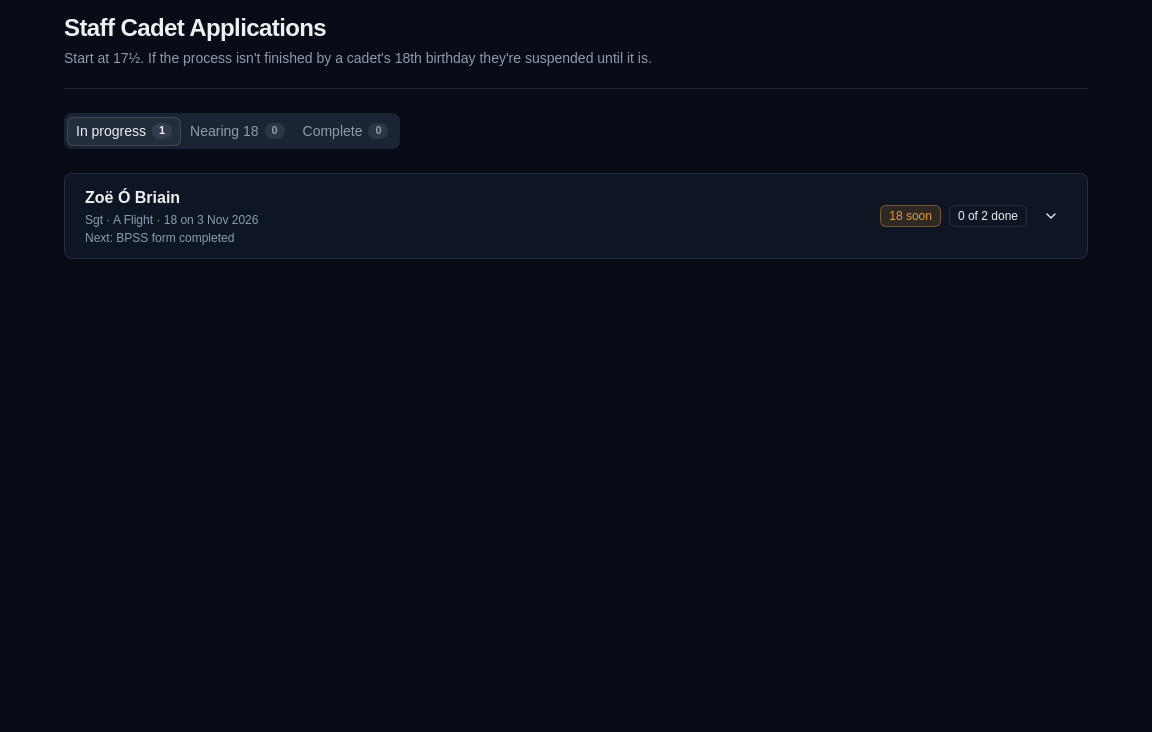
Test: Staff cadet applications › saves notes, offering Save only once they've changed
This screenshot has width=1152, height=732.
Click the button named "Expand application for Zoë Ó Briain".
click(1051, 216)  # box [1035,200,1067,232]
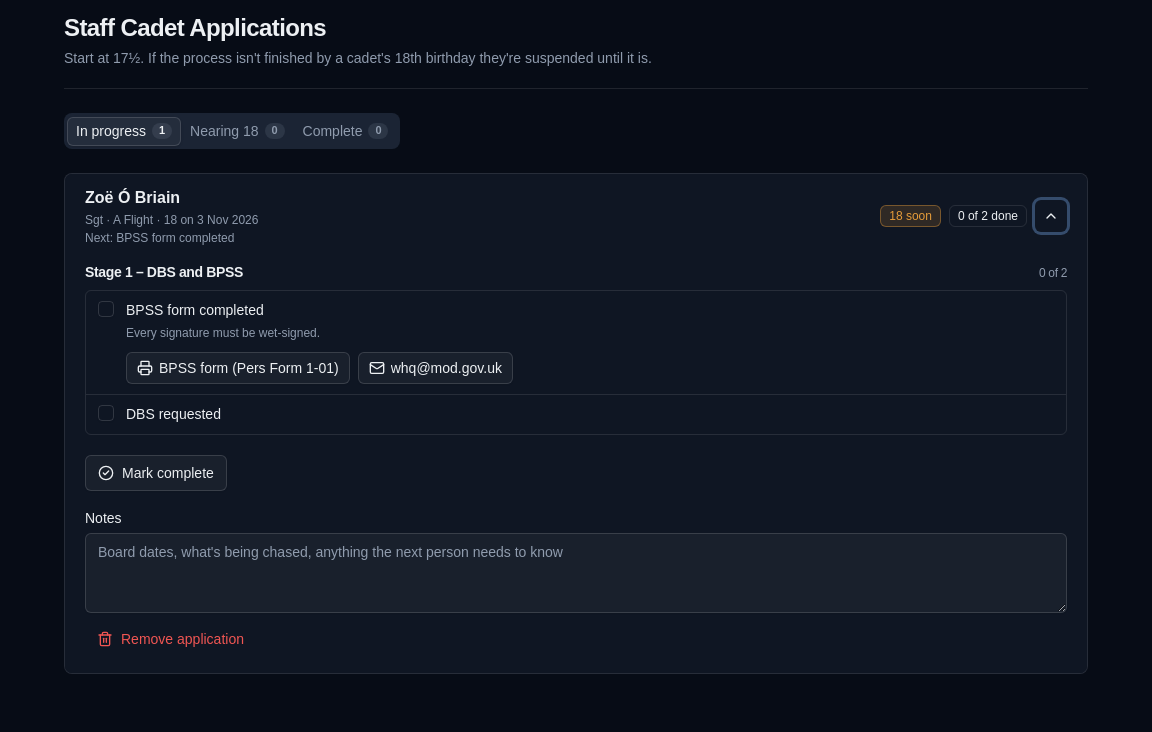
Check: the button "Save notes" is not shown
Type "MOI booked " into the text box labelled "Notes".
click(576, 573); type("MOI booked ")  # box [85,533,1067,613]
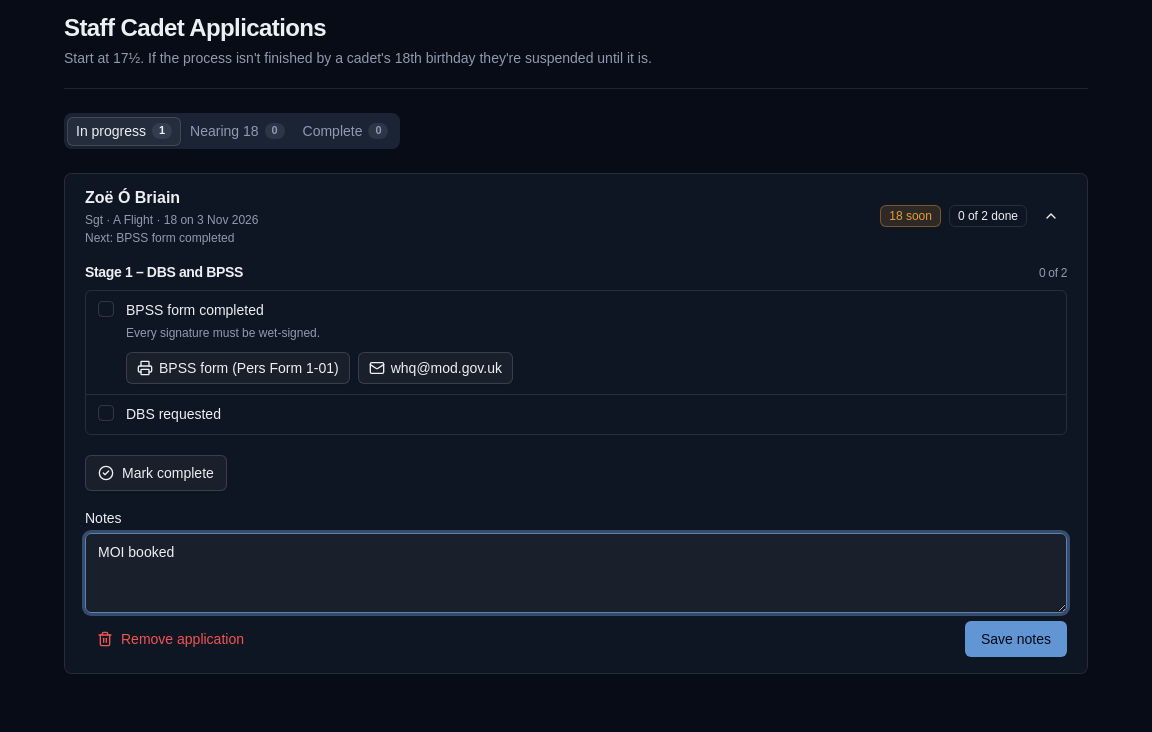
Click the button "Save notes".
click(1016, 639)  # box [965,621,1067,657]
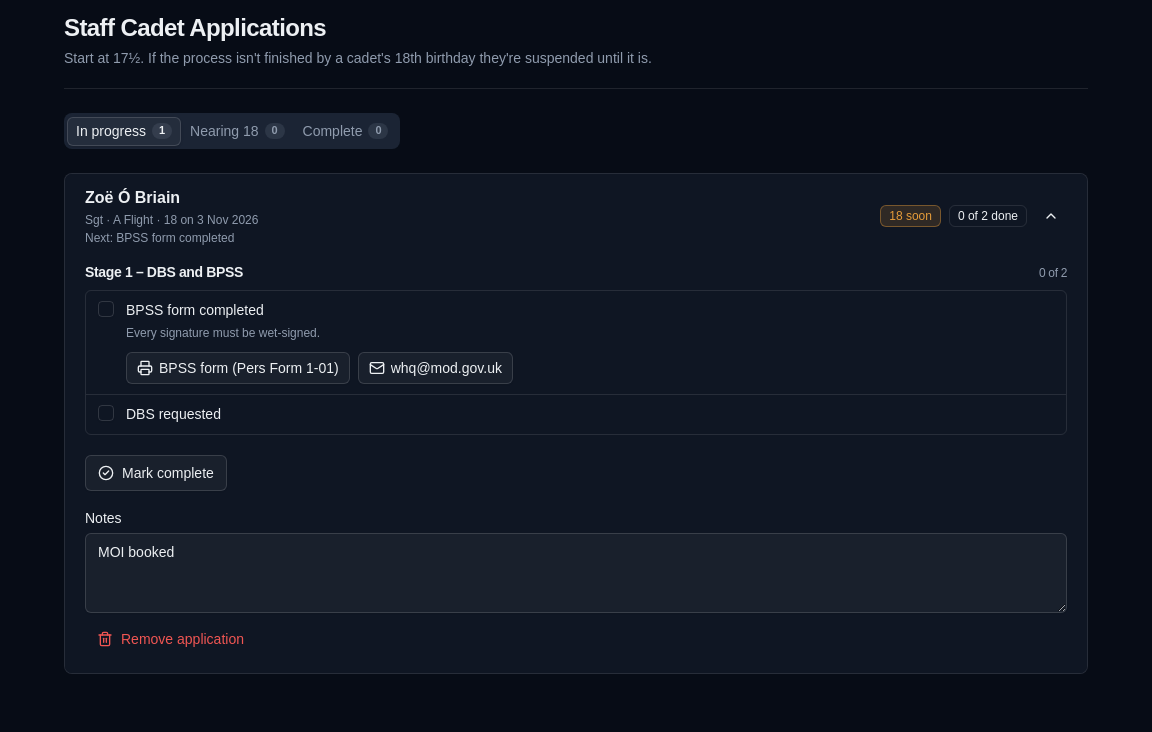
Check: the button "Save notes" is gone
